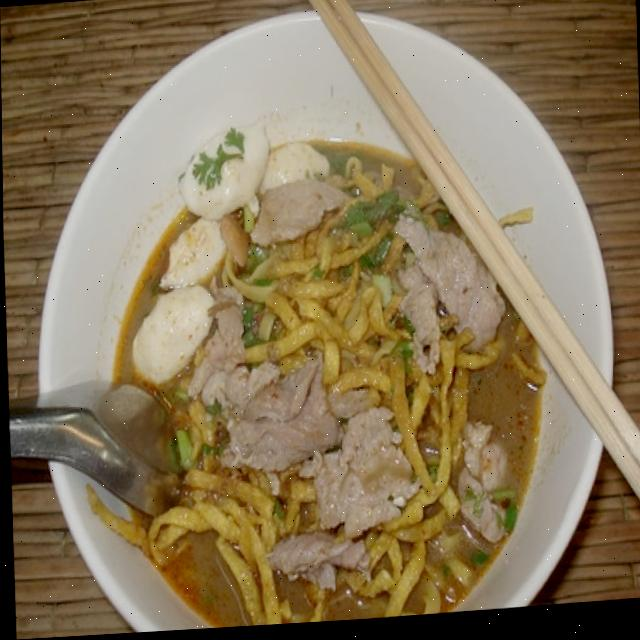面条主食: (96, 95, 546, 636)
